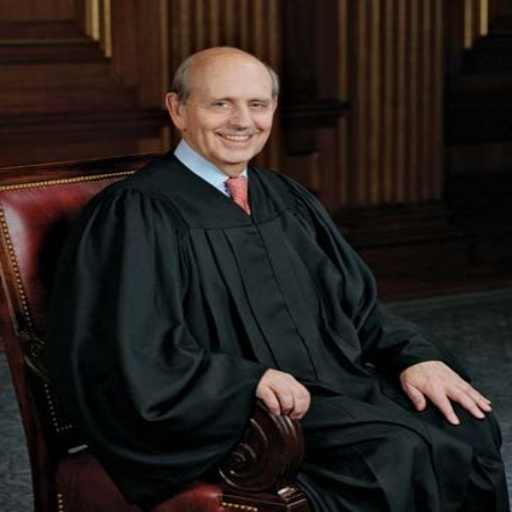hand: (403, 353, 494, 424), (253, 368, 311, 419)
